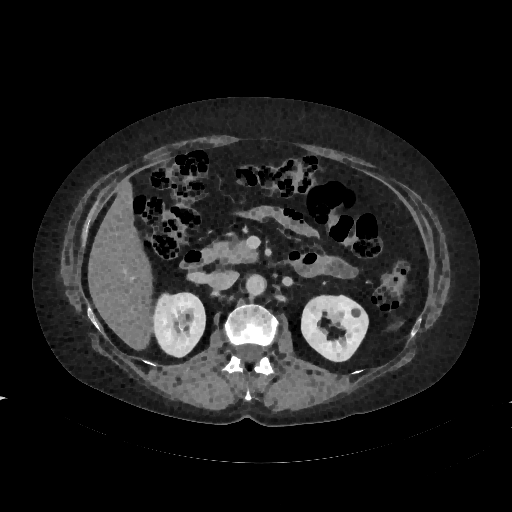Lesion: (348, 304, 363, 321)
